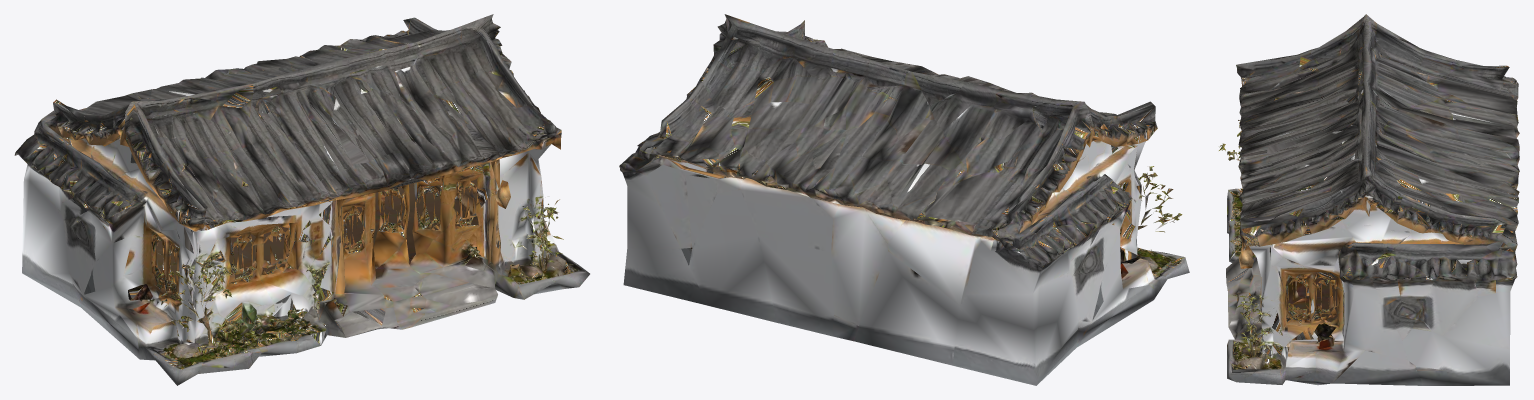
Rendered from lib_courtyard.mid.glb.
3 views of the same model, side by side, from view 1: azimuth 30°, elevation 25°; view 2: azimuth 150°, elevation 25°; view 3: azimuth 270°, elevation 25° (orthographic). The views are drawn at different scales.
Bounding box in the file's own units: 1.87 × 0.9253 × 1.26.
Materials: 1 (1 with a texture image).
